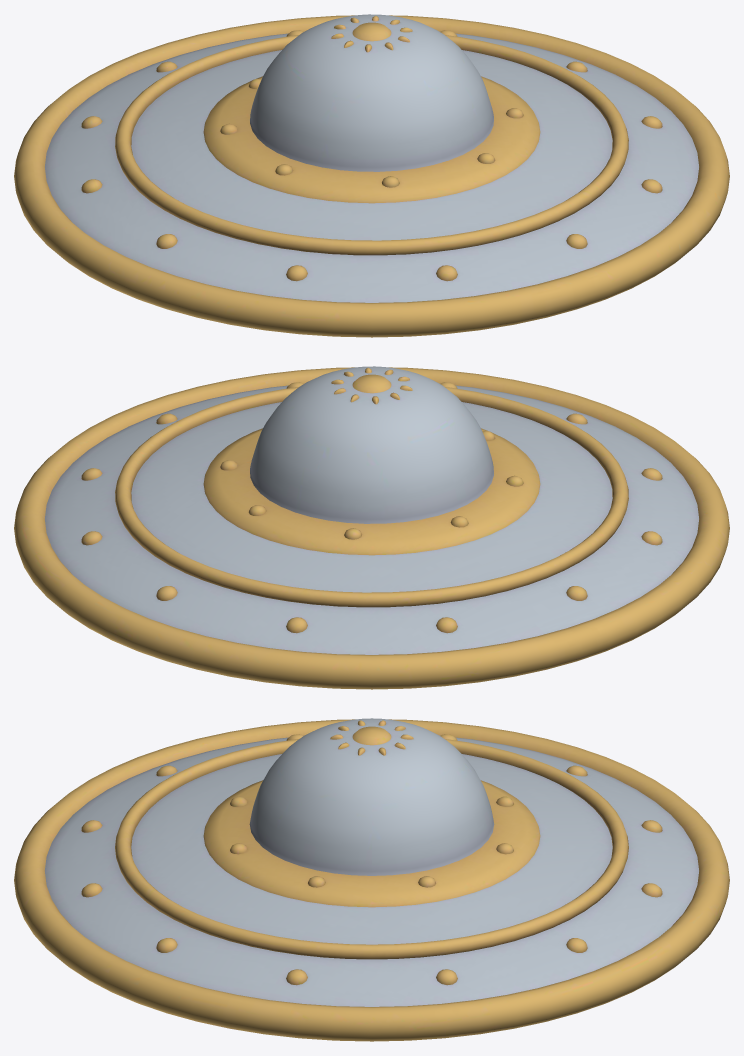
Rendered from buckler.glb.
3 views of the same model, one above another, from view 1: azimuth 30°, elevation 25°; view 2: azimuth 150°, elevation 25°; view 3: azimuth 270°, elevation 25° (orthographic).
Visible parts, largest first — view 1: buckler_body; view 2: buckler_body; view 3: buckler_body.
Part boxes in pixels (left/top/right/bottom): buckler_body: left=14, top=14, right=729, bottom=337; buckler_body: left=14, top=366, right=729, bottom=689; buckler_body: left=14, top=718, right=729, bottom=1041.
Size of the model in its own units: 0.351 by 0.0895 by 0.351.
1 material, 1 textured.
